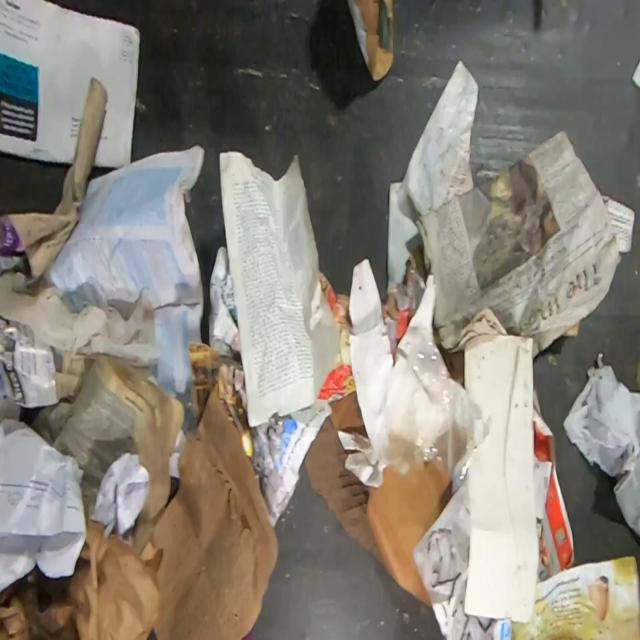cardboard: (136, 387, 279, 640), (316, 271, 356, 403), (345, 0, 394, 81), (381, 292, 414, 366), (601, 194, 635, 253), (562, 319, 580, 337)
soft_plastic: (378, 339, 493, 495)
